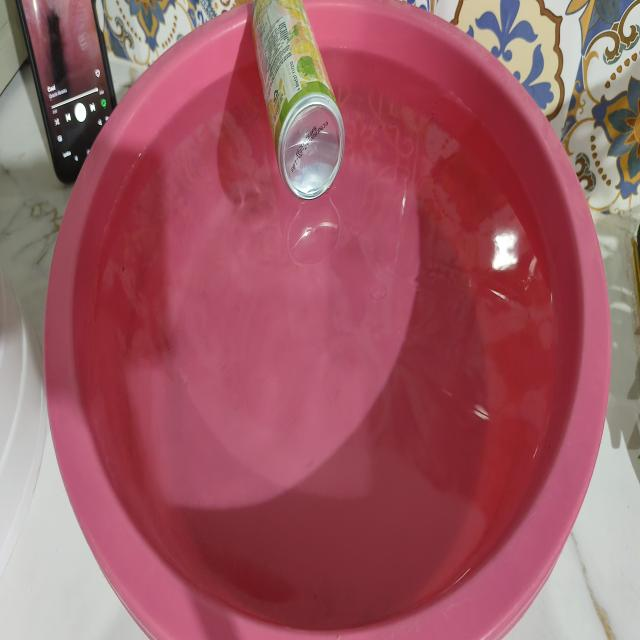Aluminum Can: (252, 0, 344, 199)
